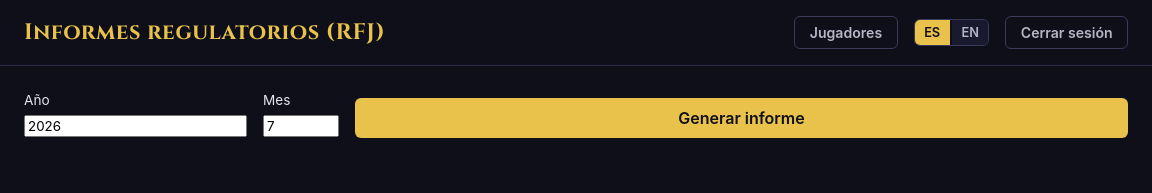
Test: OperatorReportsPage (HU-21) › AC3: a 422 (broken integrity) blocks generation with the offending round
The image size is (1152, 193).
Click the button "Generar informe" at (742, 118), box [355,98,1128,138]
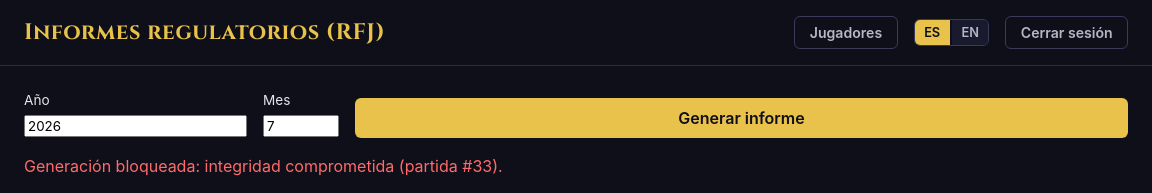
expect the text "Generación bloqueada: integridad comprometida (partida #33)." is shown: met, box [24,156,503,176]
